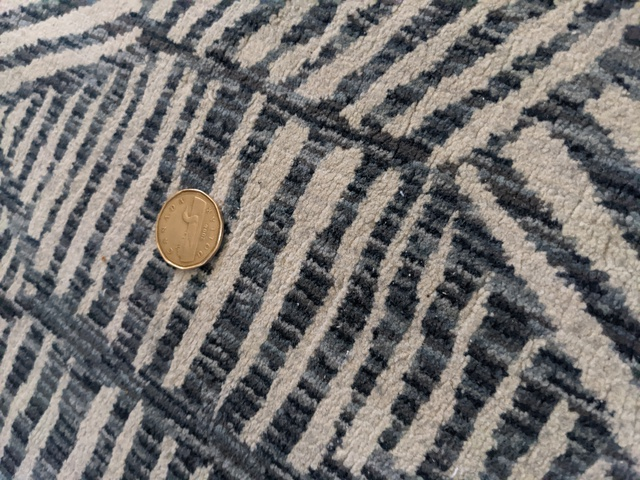loonie: (147, 187, 238, 272)
